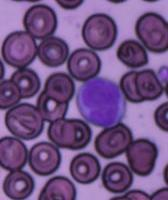M: (76, 75, 126, 127)
